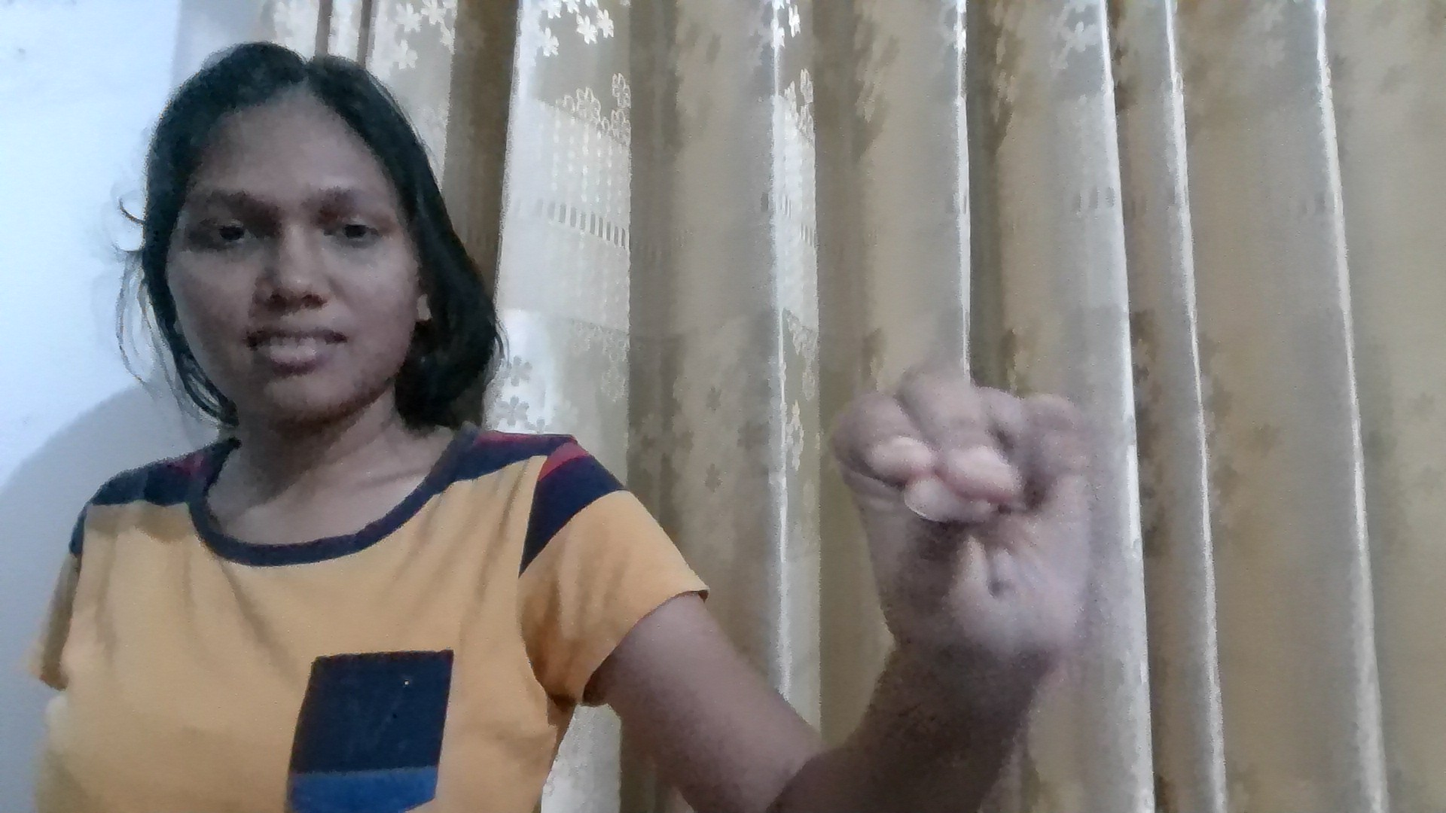No: (815, 324, 1192, 748)
